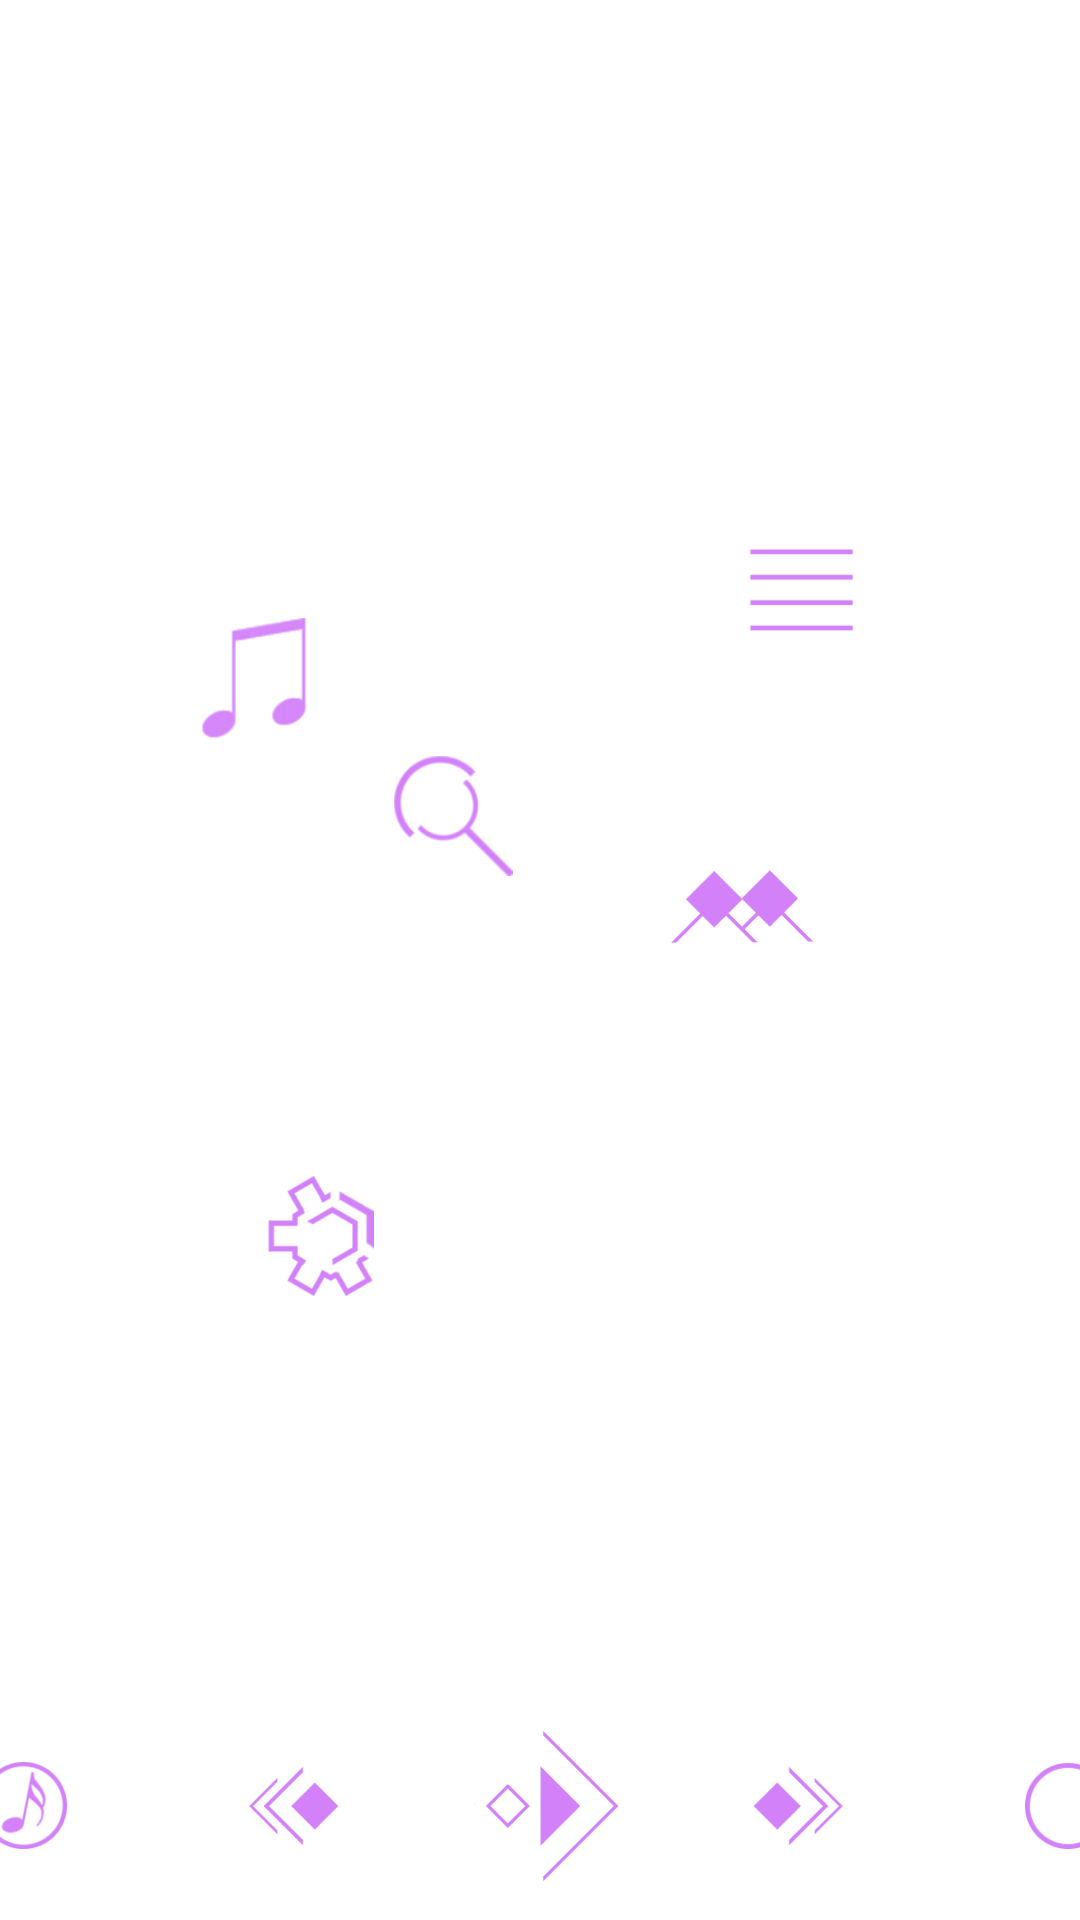

Where to tap for icons on this 1080*1920 app screen, as (x,y):
next: (798,1806)
play: (546,1806)
playlist: (801,590)
prev: (293,1806)
search: (453,816)
setting: (321,1236)
tracks: (254,678)
